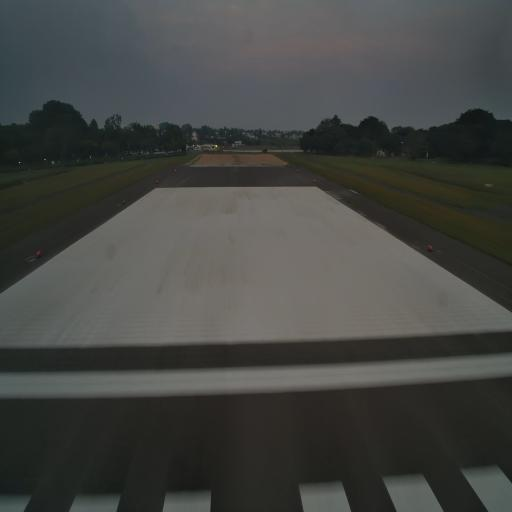on: (34, 246, 42, 258), (428, 241, 433, 253)
